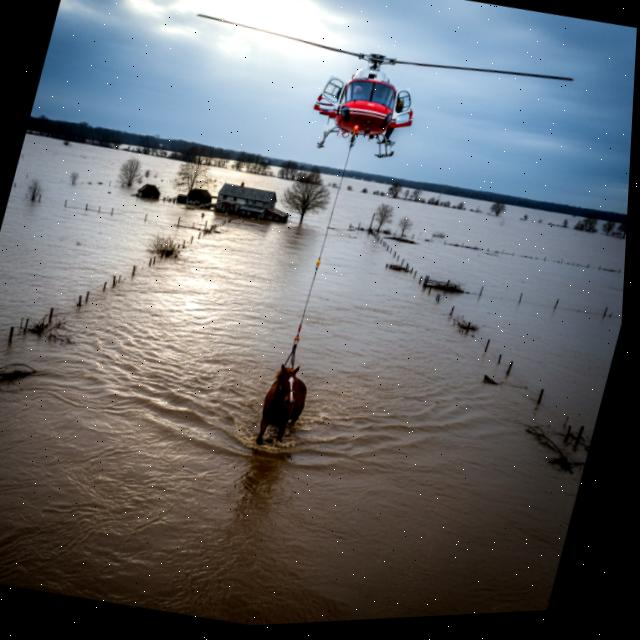horse: (245, 354, 321, 457)
